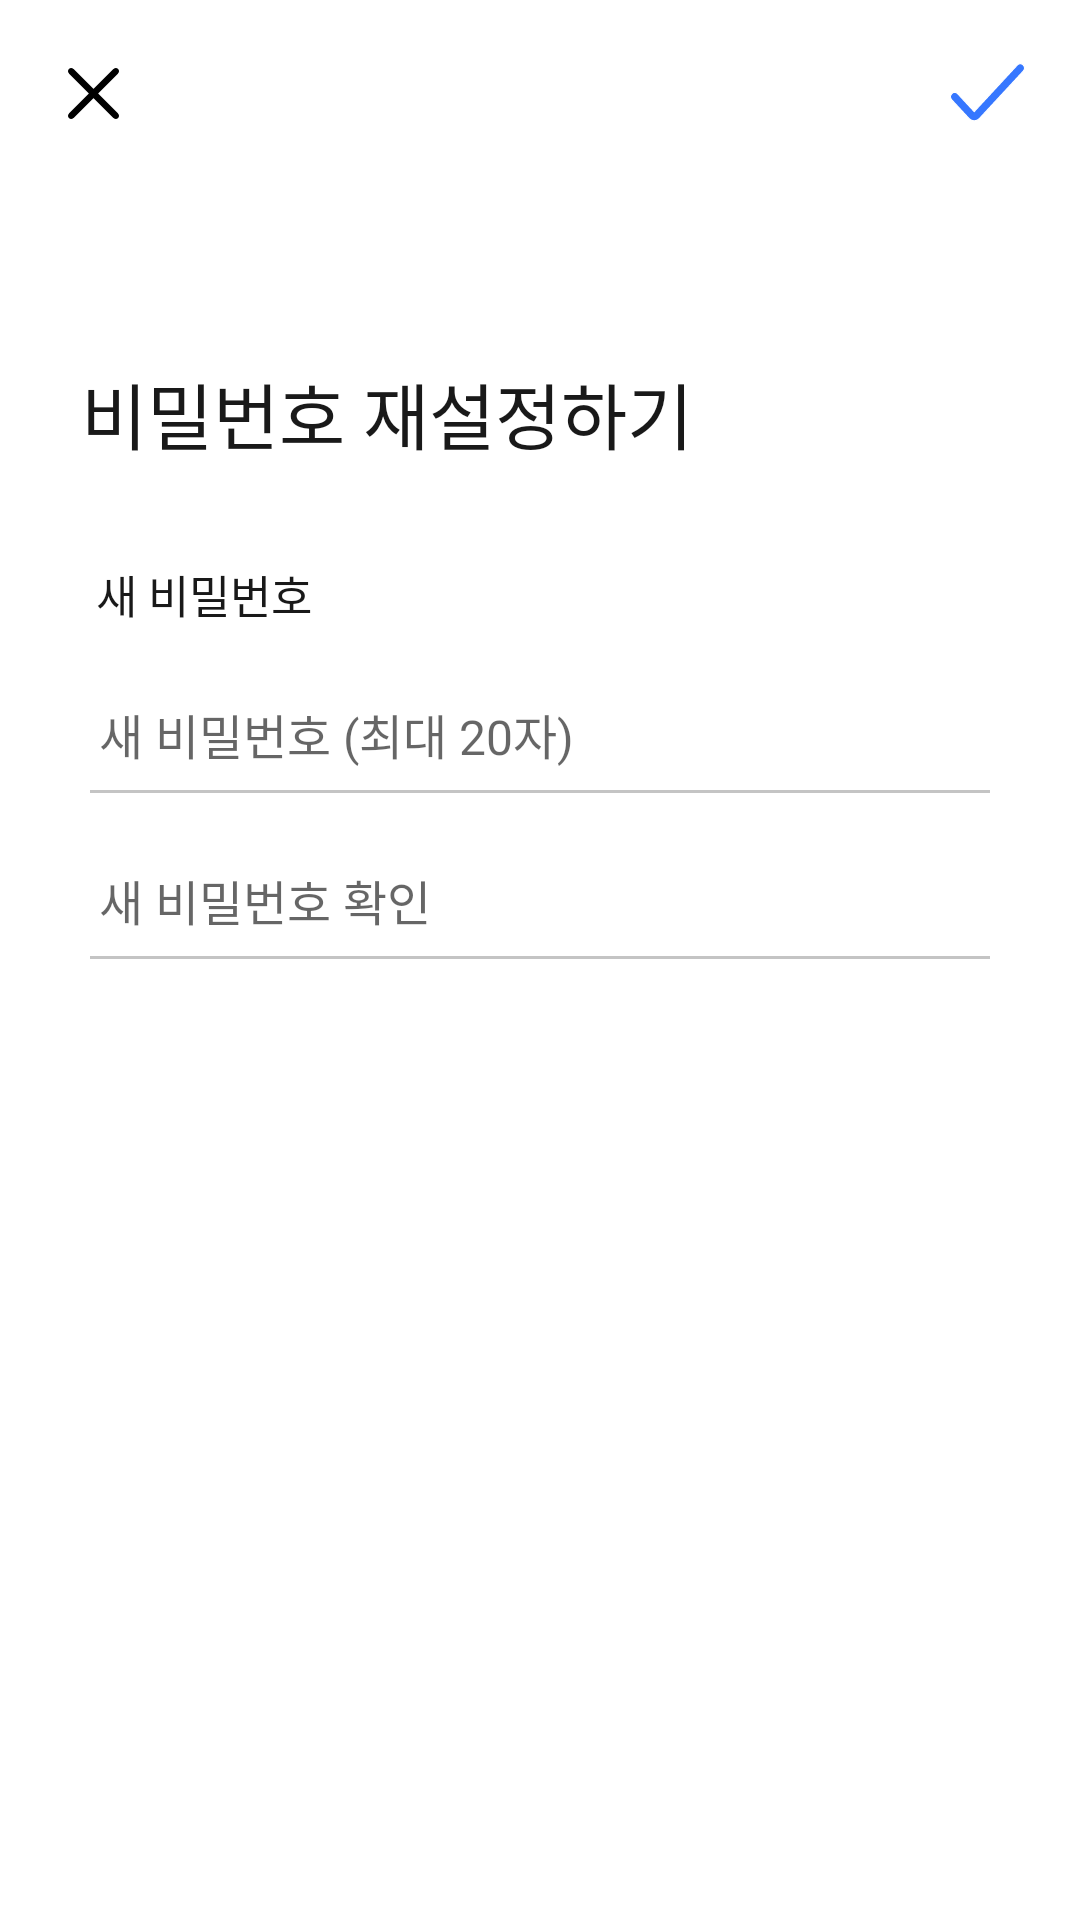

Icon bounding boxes for this 1080px×1920px phone screenshot, format [x1=x1, y1=y1, x2=x2, y2=y2]:
cancel: [x1=68, y1=68, x2=119, y2=119]
check: [x1=951, y1=64, x2=1024, y2=121]
